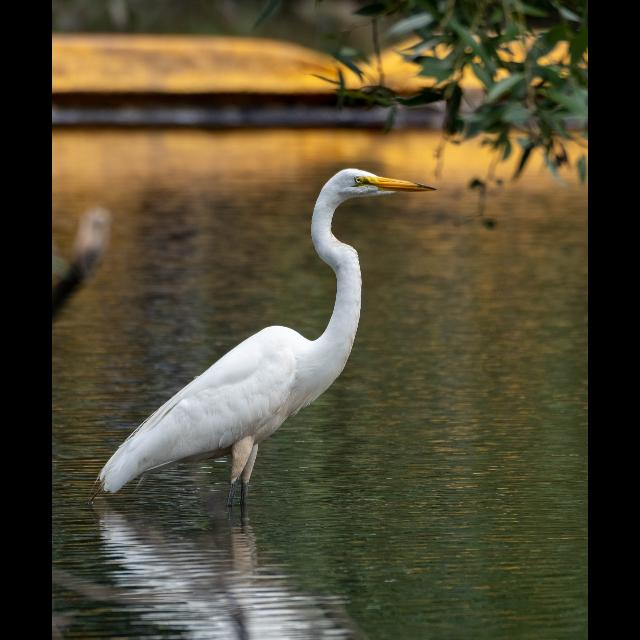egret: (96, 164, 438, 530)
